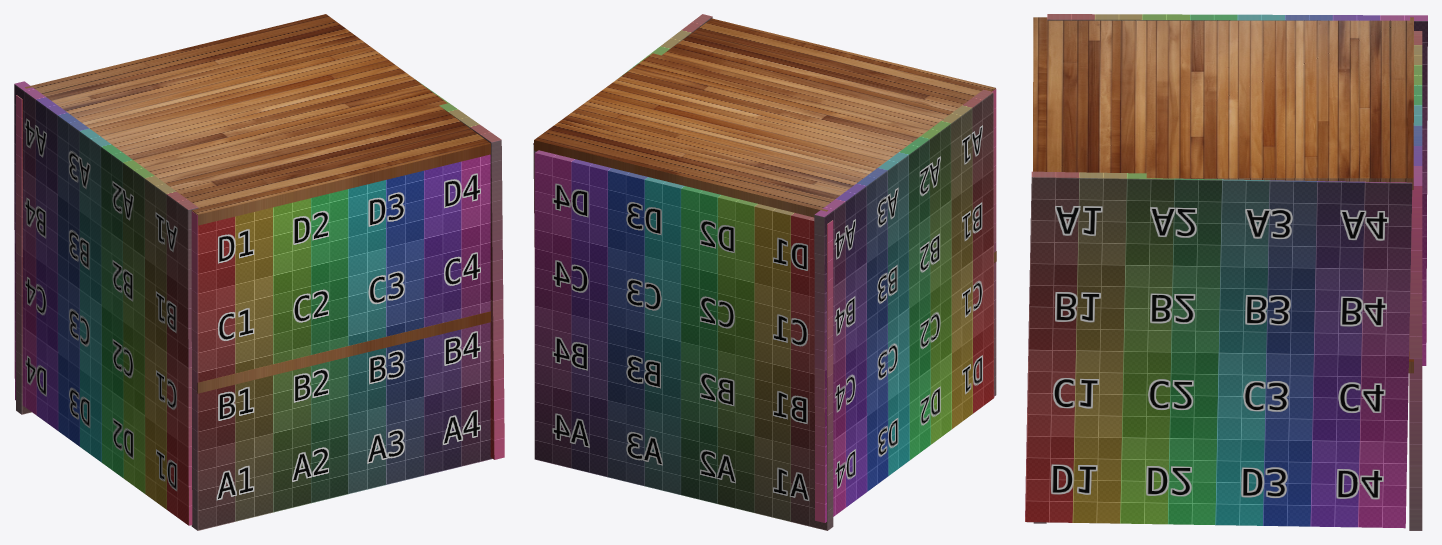
Rendered from pingpong_table_nova3.gltf.
3 renders of one model, left to right at view 1: azimuth 30°, elevation 25°; view 2: azimuth 150°, elevation 25°; view 3: azimuth 270°, elevation 25°, orthographic. The views are drawn at different scales.
Visible parts, largest first — view 1: Plane.012, Plane.011, Plane.015, Plane.013, Plane.014, Plane.016; view 2: Plane.016, Plane.011, Plane.015, Plane.012, Plane.013; view 3: Plane.013, Plane.015, Plane.016, Plane.011.
Part boxes in pixels (<box>): Plane.012: <box>191,154,492,530</box>; Plane.011: <box>14,81,198,525</box>; Plane.015: <box>25,14,490,225</box>; Plane.013: <box>415,79,504,459</box>; Plane.014: <box>194,311,490,393</box>; Plane.016: <box>16,95,31,414</box>; Plane.016: <box>534,150,833,530</box>; Plane.011: <box>814,89,994,522</box>; Plane.015: <box>534,18,995,217</box>; Plane.012: <box>992,89,996,396</box>; Plane.013: <box>533,14,712,246</box>; Plane.013: <box>1025,171,1412,528</box>; Plane.015: <box>1033,17,1413,189</box>; Plane.016: <box>1409,31,1422,530</box>; Plane.011: <box>1047,14,1427,365</box>.
Size of the model in its own units: 39.57 by 40.15 by 41.07.
